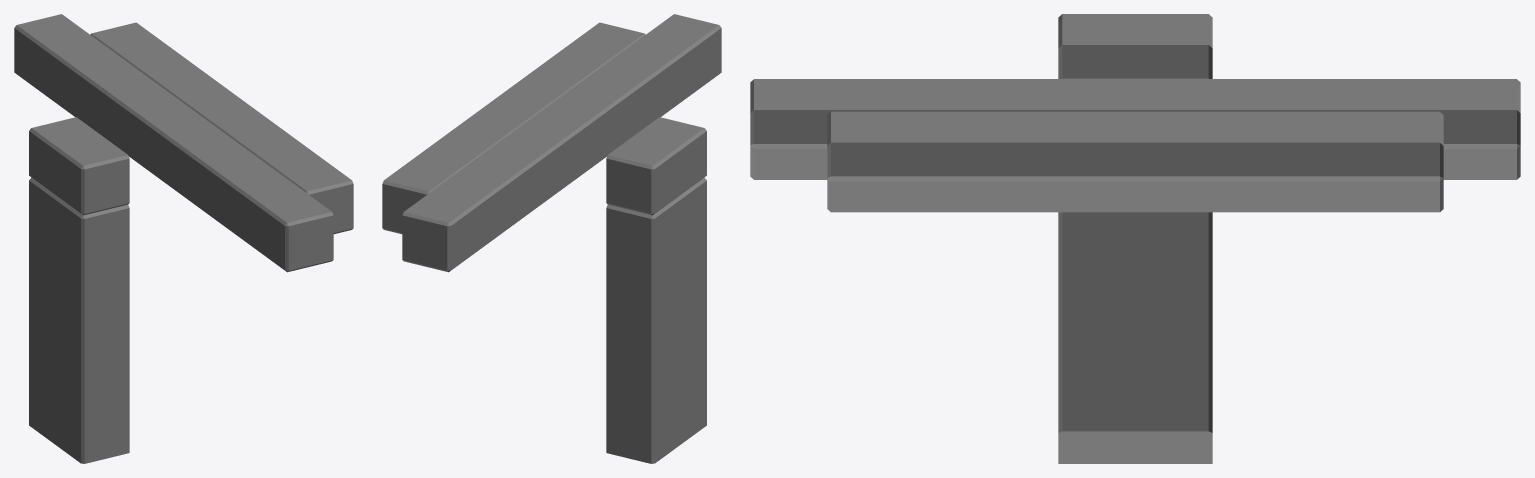
The model's file is Decorations.fbx.
3 views of the same model, side by side, from view 1: azimuth 30°, elevation 25°; view 2: azimuth 150°, elevation 25°; view 3: azimuth 270°, elevation 25° (orthographic). The views are drawn at different scales.
Visible parts, largest first — view 1: Lip_Wide, MiniPillar, Lip_WideLess, Lip_S; view 2: Lip_Wide, MiniPillar, Lip_WideLess, Lip_S; view 3: Lip_WideLess, MiniPillar, Lip_Wide, Lip_S.
Boxes of the visible parts, left/top/right/bottom form: Lip_Wide: left=14, top=14, right=333, bottom=272; MiniPillar: left=29, top=177, right=129, bottom=463; Lip_WideLess: left=90, top=22, right=353, bottom=234; Lip_S: left=29, top=117, right=129, bottom=215; Lip_Wide: left=402, top=14, right=721, bottom=272; MiniPillar: left=606, top=177, right=706, bottom=463; Lip_WideLess: left=382, top=22, right=645, bottom=234; Lip_S: left=606, top=117, right=706, bottom=215; Lip_WideLess: left=827, top=111, right=1443, bottom=212; MiniPillar: left=1058, top=212, right=1212, bottom=463; Lip_Wide: left=750, top=79, right=1520, bottom=179; Lip_S: left=1058, top=14, right=1212, bottom=78.
Bounding box in the file's own units: 200 × 300 × 500.
